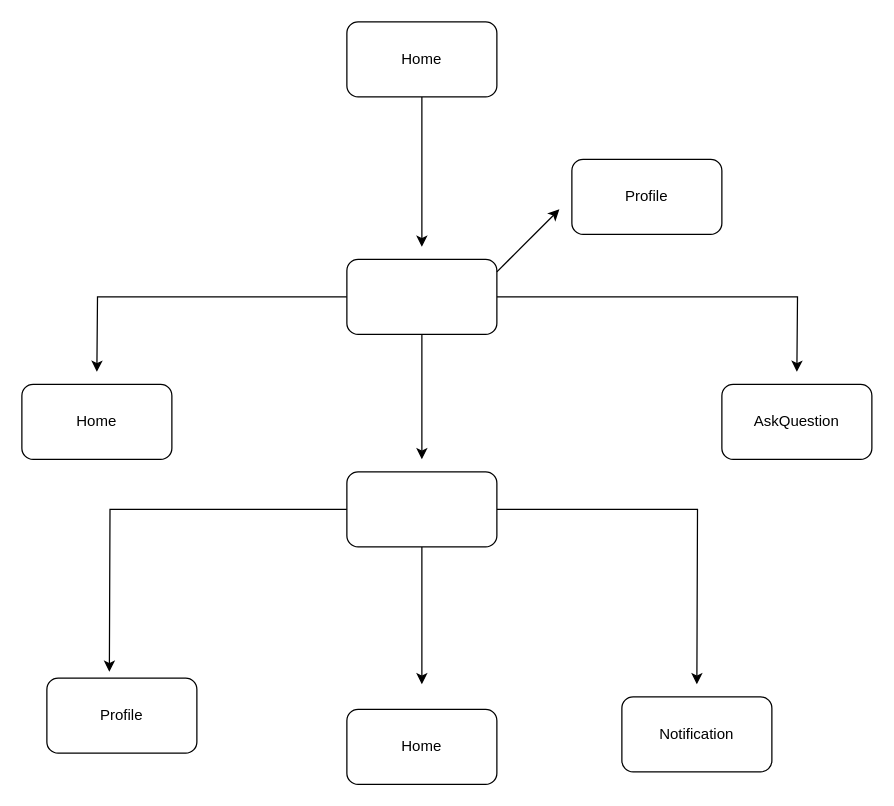
This 894x806 diagram has some shape labels left out. The centre of each missing label's shape, as x and y in pixels:
Notifications Page: [421,296]
Question Page: [421,509]
